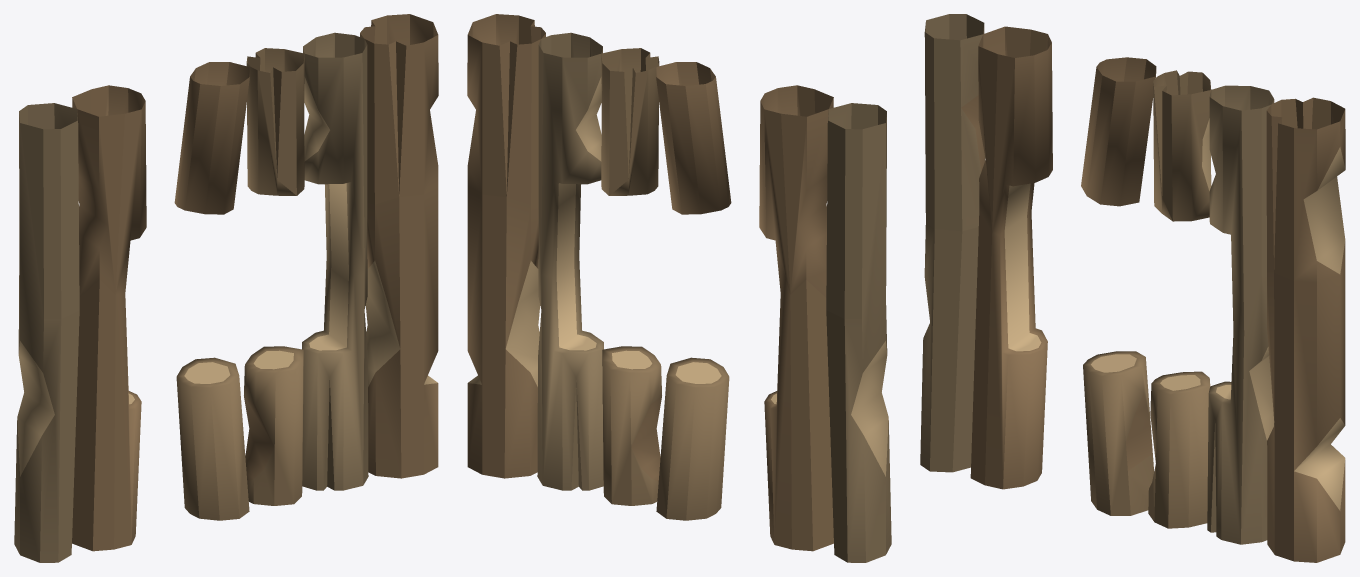
The model's file is rpgpp_av_wall_04_3x3_window_01b.fbx.
3 renders of one model, left to right at view 1: azimuth 30°, elevation 25°; view 2: azimuth 150°, elevation 25°; view 3: azimuth 330°, elevation 25°, orthographic.
Parts seen in each view (by area): view 1: rpgpp_av_wall_04_3x3_window_01b; view 2: rpgpp_av_wall_04_3x3_window_01b; view 3: rpgpp_av_wall_04_3x3_window_01b.
Part boxes in pixels (bbox=[...]): rpgpp_av_wall_04_3x3_window_01b: bbox=[14, 14, 438, 562]; rpgpp_av_wall_04_3x3_window_01b: bbox=[467, 14, 891, 562]; rpgpp_av_wall_04_3x3_window_01b: bbox=[920, 14, 1345, 562].
Size of the model in its own units: 3 by 3 by 0.4626.
